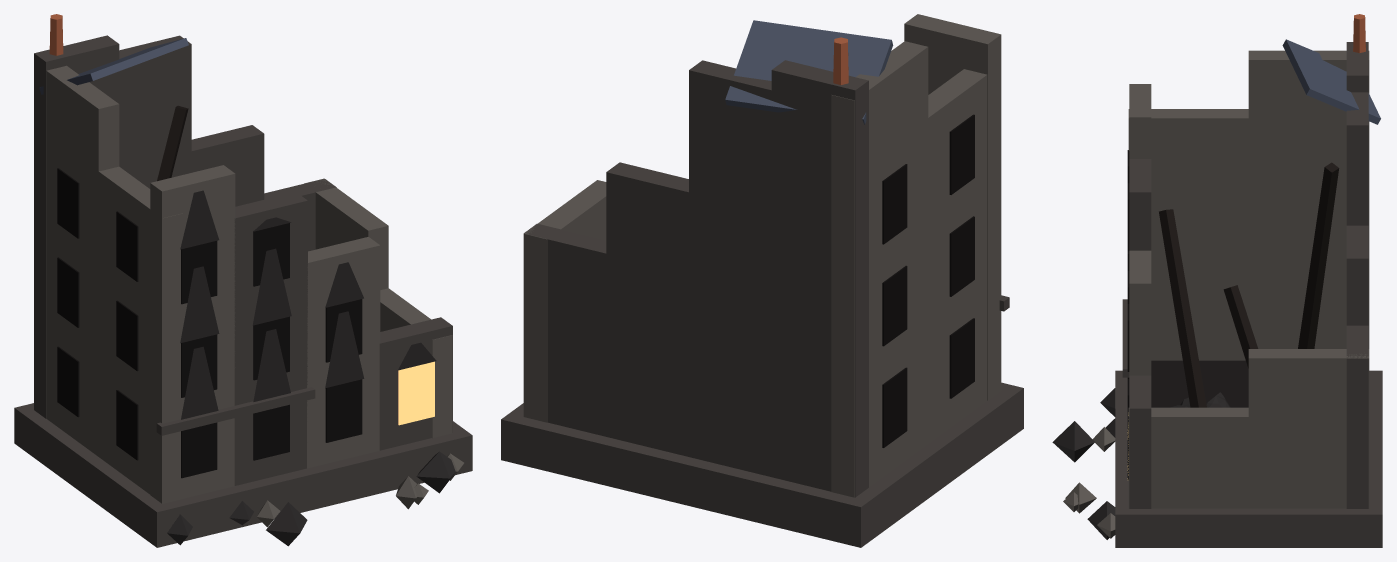
File: haussmann_burnt.glb
The picture shows the model from 3 angles, left to right: view 1: azimuth 30°, elevation 25°; view 2: azimuth 150°, elevation 25°; view 3: azimuth 270°, elevation 25°; orthographic projection. The views are drawn at different scales.
Visible parts, largest first — view 1: haussmann_burnt2; view 2: haussmann_burnt2; view 3: haussmann_burnt2.
Boxes of the visible parts, x1,y1,x2,y2 form: haussmann_burnt2: (14, 14, 472, 547); haussmann_burnt2: (501, 14, 1023, 547); haussmann_burnt2: (1052, 14, 1382, 547).
Bounding box in the file's own units: 3.7 × 4.91 × 3.58.
